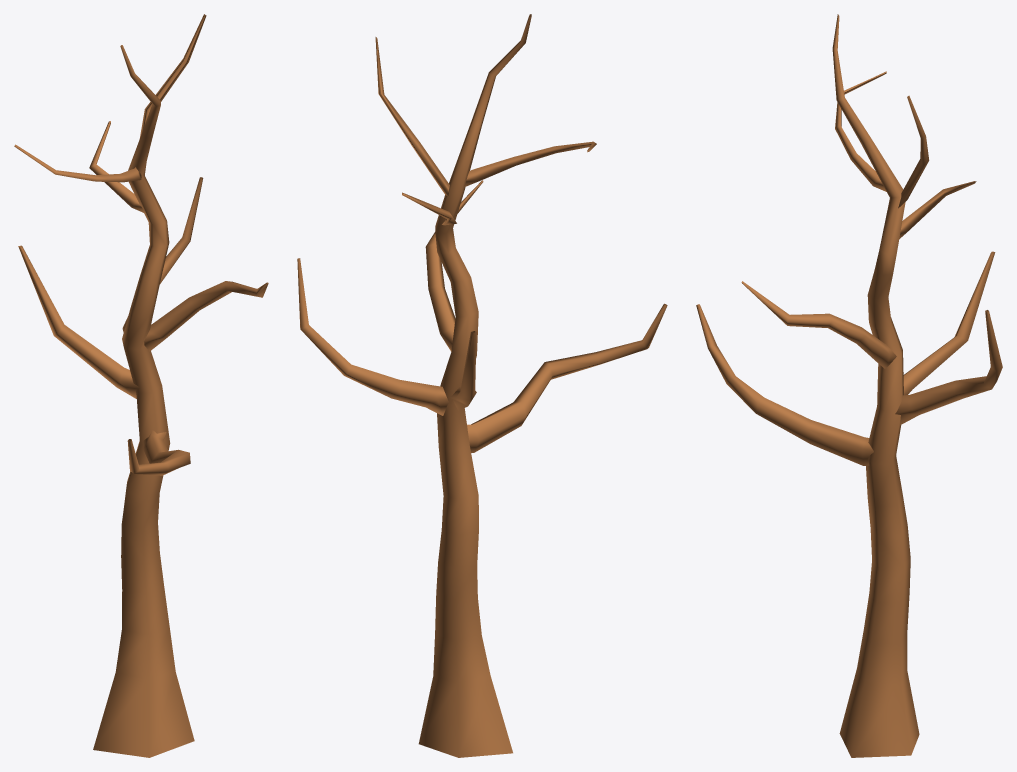
File: Tree_1.fbx
The picture shows the model from 3 angles, left to right: view 1: azimuth 30°, elevation 25°; view 2: azimuth 150°, elevation 25°; view 3: azimuth 270°, elevation 25°; orthographic projection. The views are drawn at different scales.
Visible parts, largest first — view 1: Tree_1; view 2: Tree_1; view 3: Tree_1.
Boxes of the visible parts, x1,y1,x2,y2 form: Tree_1: (14,14,268,757); Tree_1: (297,14,667,757); Tree_1: (696,14,1002,757).
Bounding box in the file's own units: 42.44 × 121 × 47.84.
